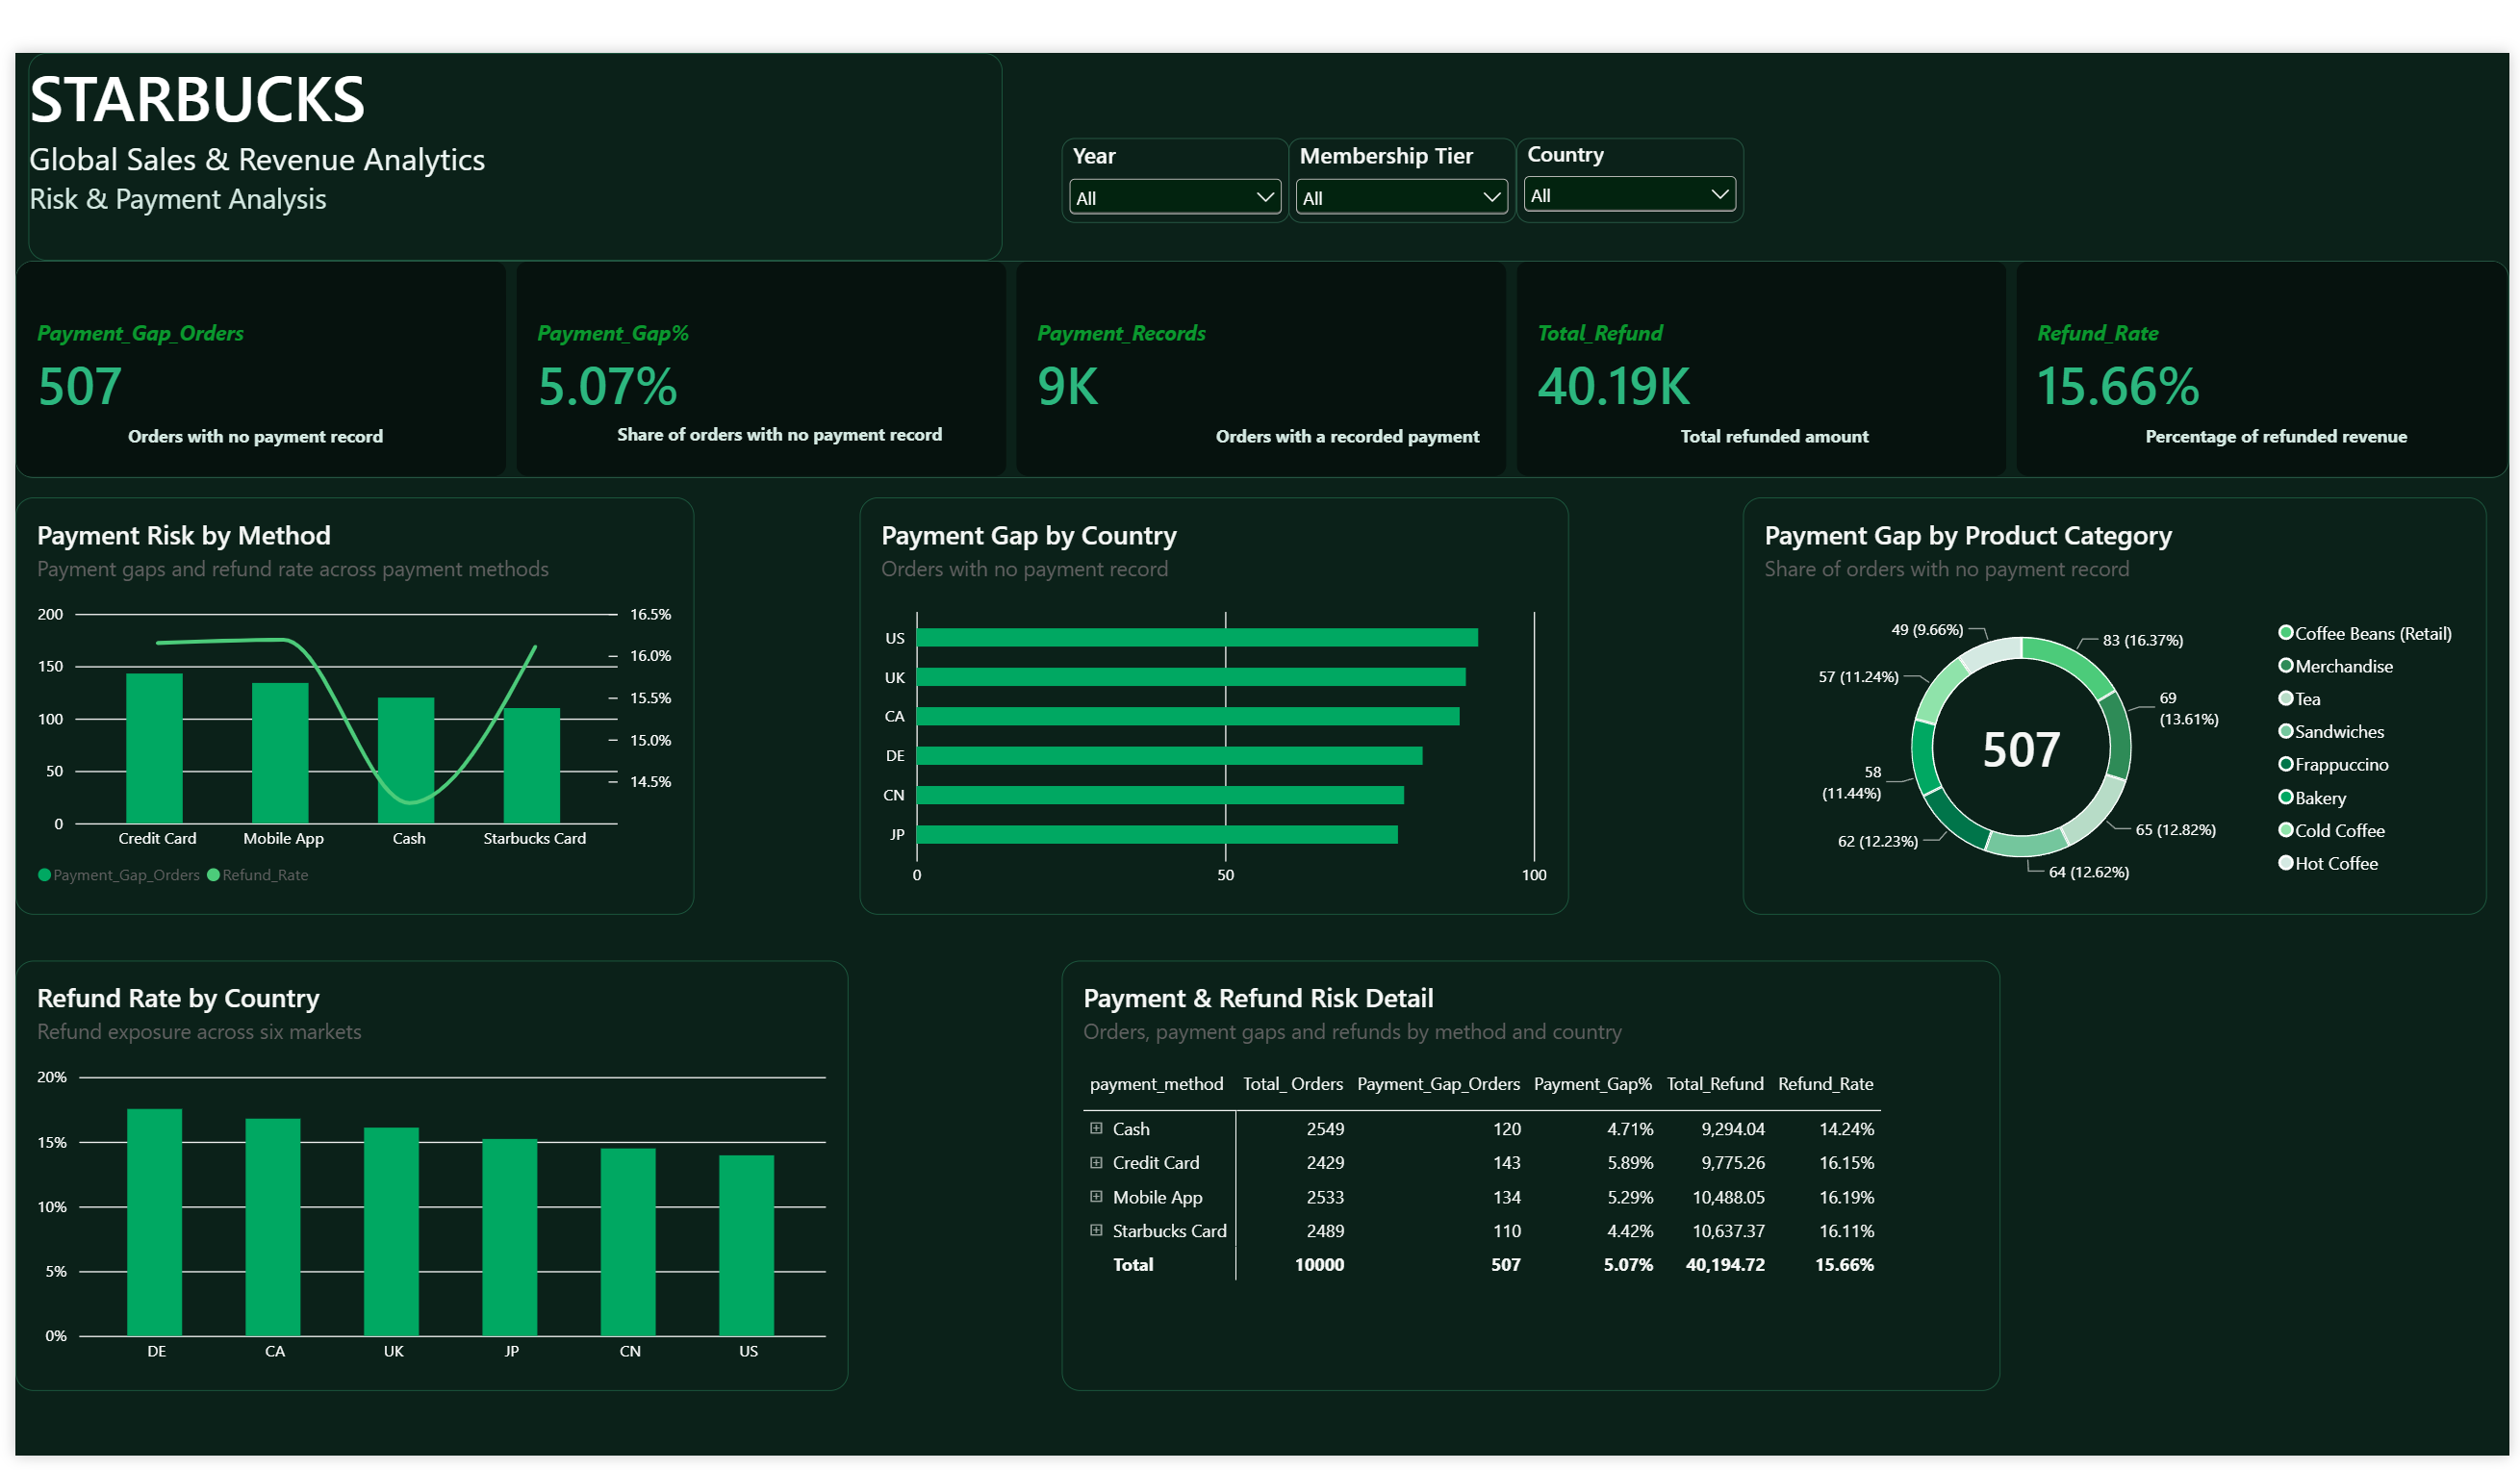

The dashboard page shown, as its layout file describes it:
{"tool":"powerbi","page":{"name":"Risk & Payment Analysis","canvas":[1920,1080],"ordinal":2},"visuals":[{"type":"textbox","box":[10,0,750,160],"z":0},{"type":"slicer","fields":{"Values":["Date.Year"]},"box":[805,65,175,65],"z":1000},{"type":"slicer","fields":{"Values":["public customers.membership_tier"]},"box":[980,65,175,65],"z":2000},{"type":"slicer","fields":{"Values":["public customers.country"]},"box":[1155,65,175,65],"z":3000},{"type":"image","box":[210,160,76.7,105],"z":4000},{"type":"cardVisual","fields":{"Data":["public orders.Payment_Gap_Orders","public orders.Payment_Gap%","public orders.Payment_Records","public orders.Total_Refund","public orders.Refund_Rate"]},"box":[0,160,1920,167.5],"z":5000},{"type":"textbox","box":[10,286,350,28.9],"z":6000},{"type":"textbox","box":[430,265.6,317.5,41.2],"z":7000},{"type":"textbox","box":[924,286,287.5,57.5],"z":8000},{"type":"textbox","box":[1282.5,285,327.5,167.5],"z":9000},{"type":"textbox","box":[1640,285,280,167.5],"z":10000},{"type":"lineClusteredColumnComboChart","title":"Payment Risk by Method","fields":{"Category":["public orders.payment_method"],"Y":["public orders.Payment_Gap_Orders"],"Y2":["public orders.Refund_Rate"]},"box":[0,342.5,522.5,321.2],"z":11000},{"type":"clusteredBarChart","title":"Payment Gap by Country","fields":{"Category":["public customers.country"],"Y":["public orders.Payment_Gap_Orders"]},"box":[650,342.5,546.2,321.2],"z":12000},{"type":"donutChart","title":"Payment Gap by Product Category","fields":{"Category":["public orders.product_category"],"Y":["public orders.Payment_Gap_Orders"]},"box":[1330,342.5,572.5,321.2],"z":13000},{"type":"clusteredColumnChart","title":"Refund Rate by Country","fields":{"Category":["public customers.country"],"Y":["public orders.Refund_Rate"]},"box":[0,698.8,641.2,331.2],"z":14000},{"type":"pivotTable","title":"Payment & Refund Risk Detail","fields":{"Rows":["public orders.payment_method","public customers.country"],"Values":["public orders.Total_ Orders","public orders.Payment_Gap_Orders","public orders.Payment_Gap%","public orders.Total_Refund","public orders.Refund_Rate"]},"box":[805,698.8,722.5,331.2],"z":15000}]}

Visuals, with their boxes on the page's 1920x1080 design canvas (x1, y1, x2, y2). These are canvas units, not pixel positions in the 2520x1470 screenshot, which may show the page scaled, cropped or inside an application window:
textbox: [10, 0, 760, 160]
slicer - Date.Year: [805, 65, 980, 130]
slicer - public customers.membership_tier: [980, 65, 1155, 130]
slicer - public customers.country: [1155, 65, 1330, 130]
image: [210, 160, 287, 265]
cardVisual - public orders.Payment_Gap_Orders x public orders.Payment_Gap%: [0, 160, 1920, 328]
textbox: [10, 286, 360, 315]
textbox: [430, 266, 748, 307]
textbox: [924, 286, 1212, 344]
textbox: [1282, 285, 1610, 452]
textbox: [1640, 285, 1920, 452]
"Payment Risk by Method" lineClusteredColumnComboChart: [0, 342, 522, 664]
"Payment Gap by Country" clusteredBarChart: [650, 342, 1196, 664]
"Payment Gap by Product Category" donutChart: [1330, 342, 1902, 664]
"Refund Rate by Country" clusteredColumnChart: [0, 699, 641, 1030]
"Payment & Refund Risk Detail" pivotTable: [805, 699, 1528, 1030]
